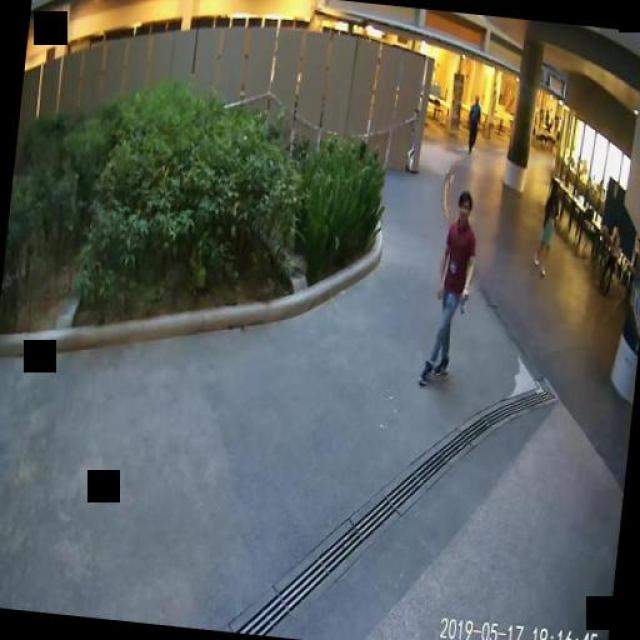gun: (456, 290, 470, 311)
